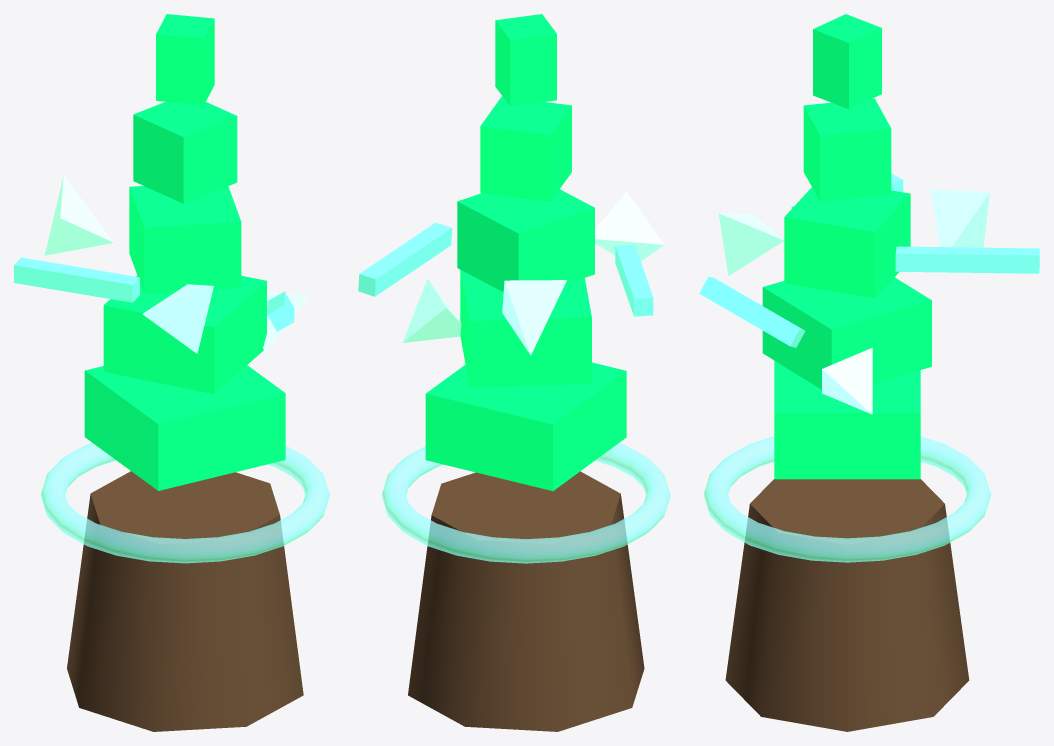
Rendered from mimir-root-shrine.glb.
The picture shows the model from 3 angles, left to right: view 1: azimuth 30°, elevation 25°; view 2: azimuth 150°, elevation 25°; view 3: azimuth 270°, elevation 25°; orthographic projection.
Visible parts, largest first — view 1: growth-planter-emissive, growth-planter-body, rim, spoke-3, spoke-4, spoke-2, spoke-1, spoke-0; view 2: growth-planter-emissive, growth-planter-body, rim, spoke-4, spoke-5, spoke-2, spoke-0, spoke-3; view 3: growth-planter-body, growth-planter-emissive, rim, spoke-5, spoke-4, spoke-2, spoke-1, spoke-0.
Part boxes in pixels (left/top/right/bottom): growth-planter-emissive: left=84, top=14, right=285, bottom=490; growth-planter-body: left=67, top=471, right=303, bottom=731; rim: left=40, top=443, right=329, bottom=563; spoke-3: left=14, top=257, right=139, bottom=302; spoke-4: left=44, top=175, right=113, bottom=255; spoke-2: left=142, top=284, right=213, bottom=353; spoke-1: left=267, top=291, right=294, bottom=331; spoke-0: left=263, top=292, right=308, bottom=353; growth-planter-emissive: left=425, top=14, right=626, bottom=490; growth-planter-body: left=408, top=471, right=644, bottom=731; rim: left=381, top=443, right=670, bottom=563; spoke-4: left=502, top=280, right=566, bottom=355; spoke-5: left=358, top=222, right=452, bottom=296; spoke-2: left=595, top=192, right=664, bottom=261; spoke-0: left=402, top=278, right=461, bottom=342; spoke-3: left=615, top=244, right=653, bottom=316; growth-planter-body: left=725, top=479, right=969, bottom=731; growth-planter-emissive: left=762, top=14, right=931, bottom=479; rim: left=703, top=436, right=991, bottom=562; spoke-5: left=895, top=246, right=1039, bottom=273; spoke-4: left=931, top=189, right=989, bottom=247; spoke-2: left=718, top=213, right=784, bottom=275; spoke-1: left=699, top=276, right=805, bottom=347; spoke-0: left=822, top=347, right=872, bottom=414.
Bounding box in the file's own units: 1.29 × 2.95 × 1.4.
